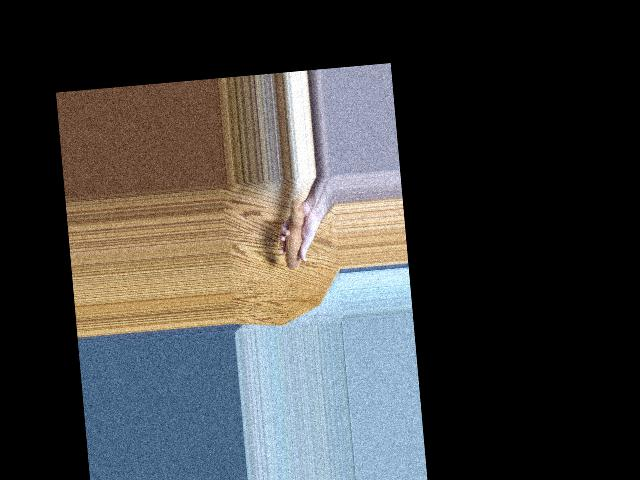sweet_potato: (278, 191, 314, 271)
